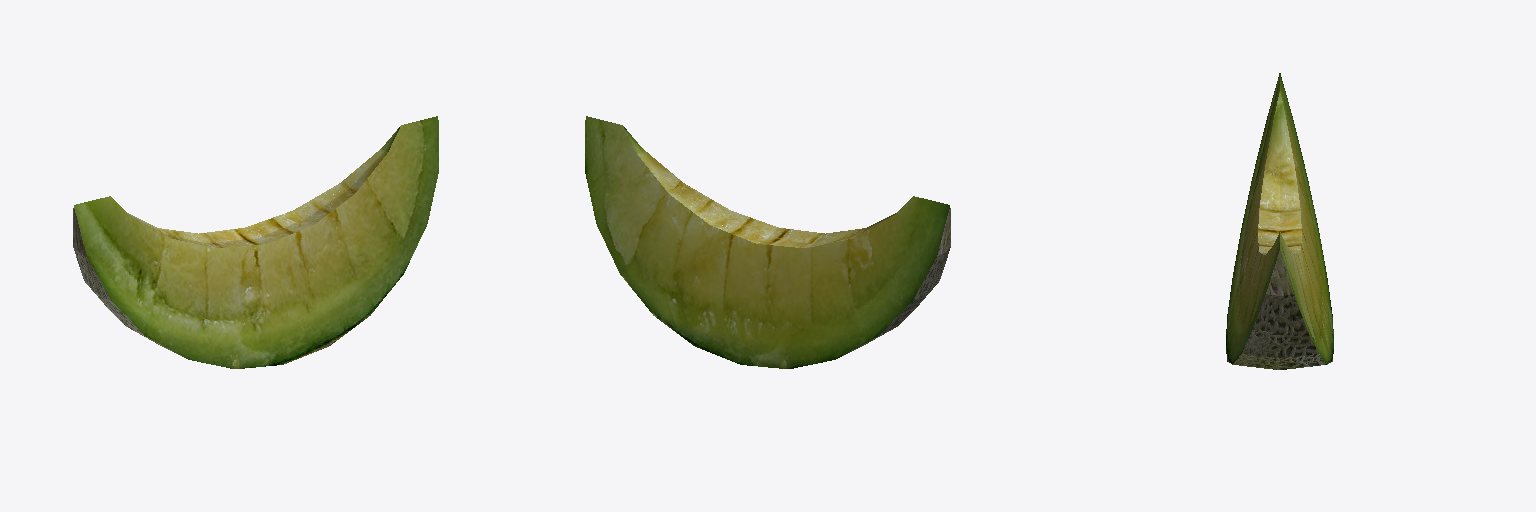
3 renders of one model, left to right at view 1: azimuth 30°, elevation 25°; view 2: azimuth 150°, elevation 25°; view 3: azimuth 270°, elevation 25°, orthographic.
Parts seen in each view (by area): view 1: melon_cut.obj; view 2: melon_cut.obj; view 3: melon_cut.obj.
Part boxes in pixels (x1,y1,x2,y2): melon_cut.obj: (73, 116, 438, 368); melon_cut.obj: (585, 116, 950, 368); melon_cut.obj: (1226, 73, 1333, 369).
Size of the model in its own units: 0.25 by 0.125 by 0.0647.
Materials: 1 (1 with a texture image).